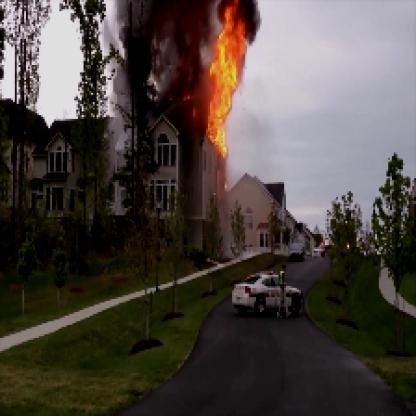Fire: (199, 2, 247, 158)
Smoke: (119, 2, 213, 109)
